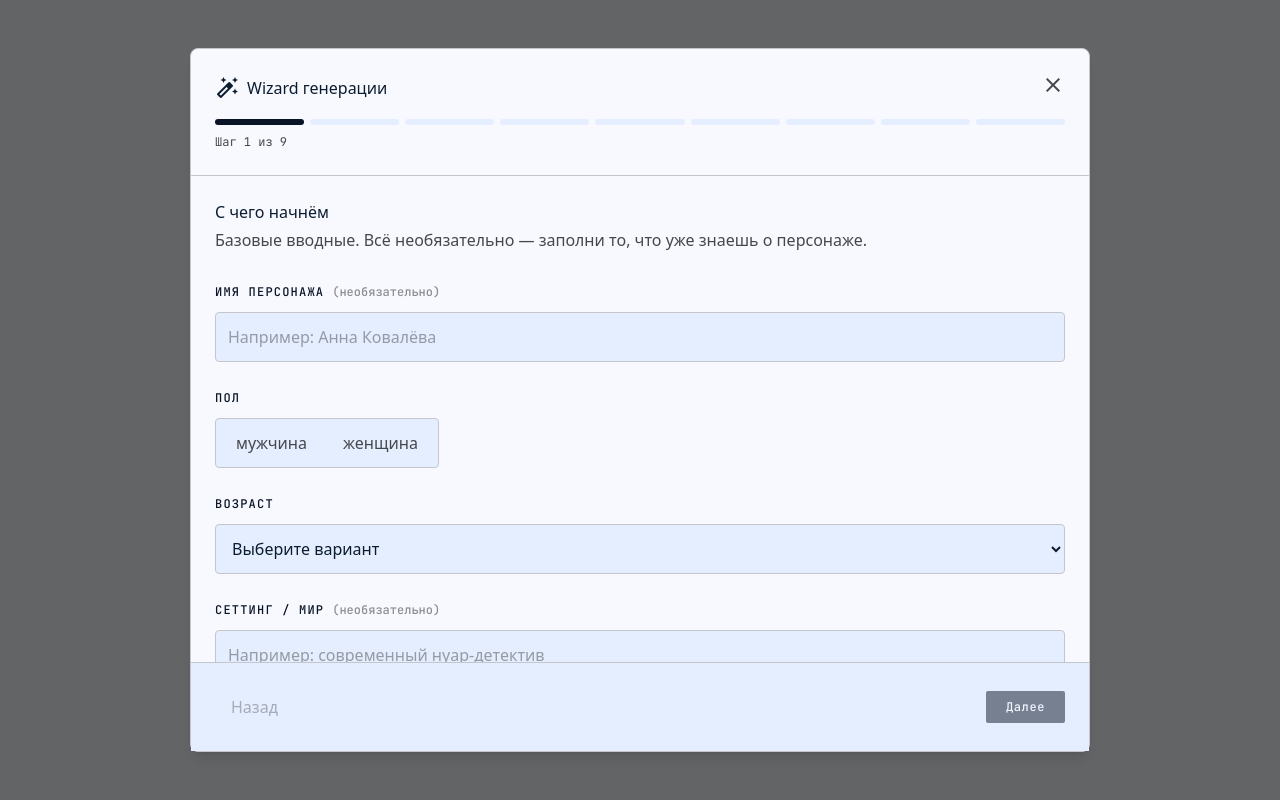
Test: WizardModal › navigates forward and back between steps
Click the button "мужчина".
click(272, 443)  # box [220, 423, 323, 463]
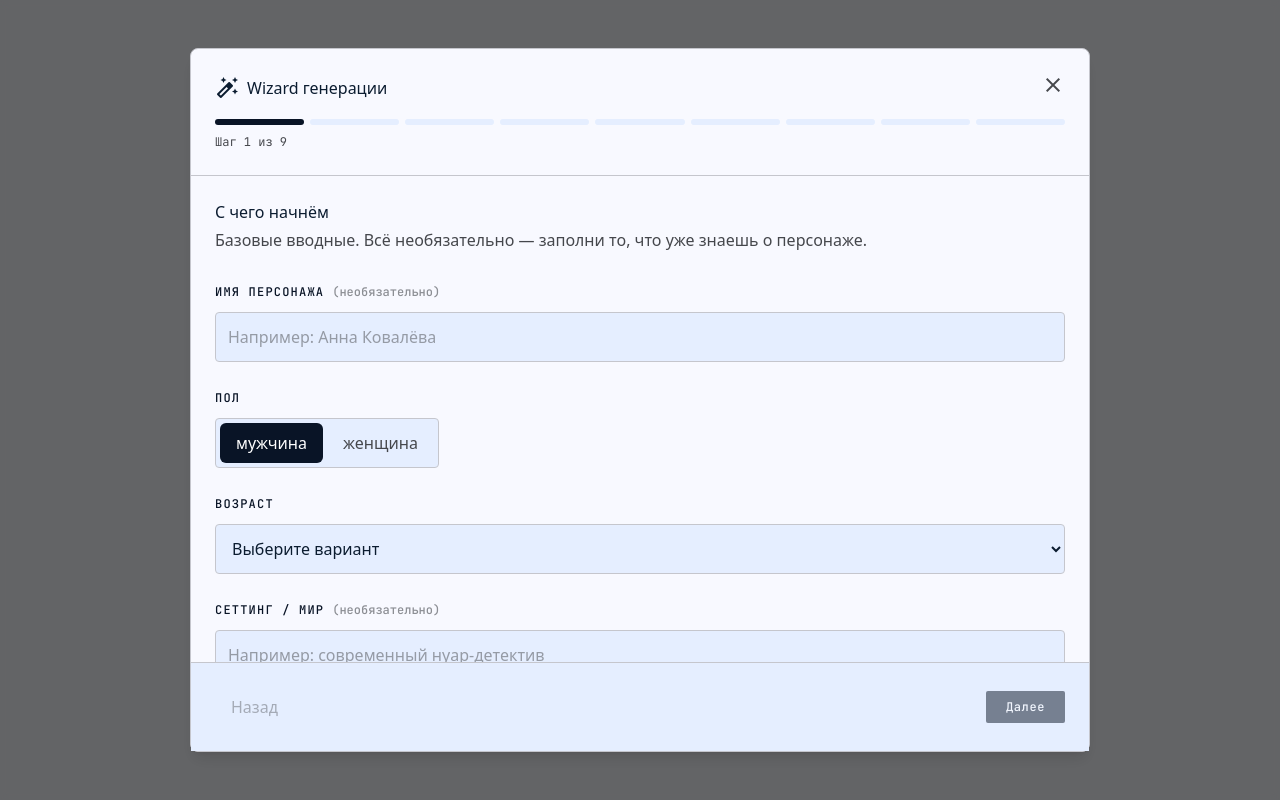
Select "18-25" in the dropdown at [640, 549], box [215, 524, 1065, 574]
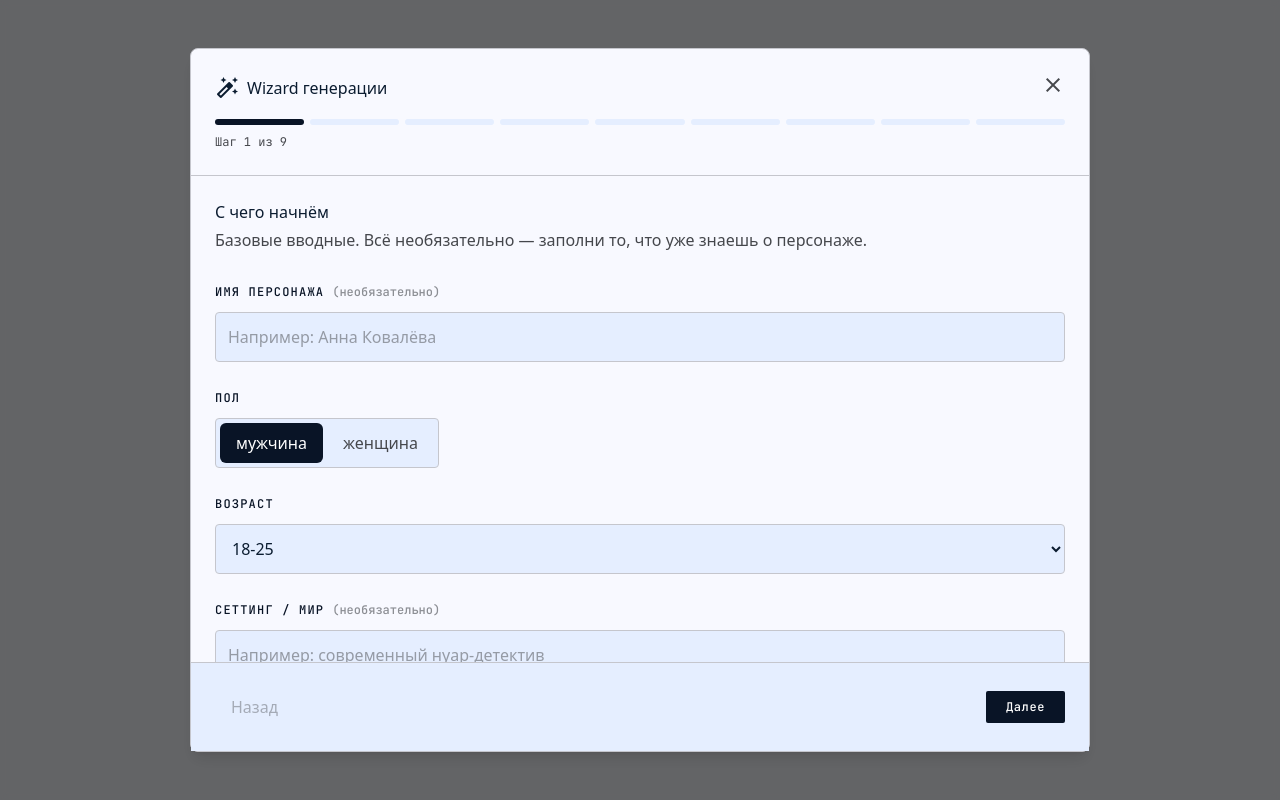
Click the button "Далее".
click(1026, 707)  # box [986, 691, 1065, 723]
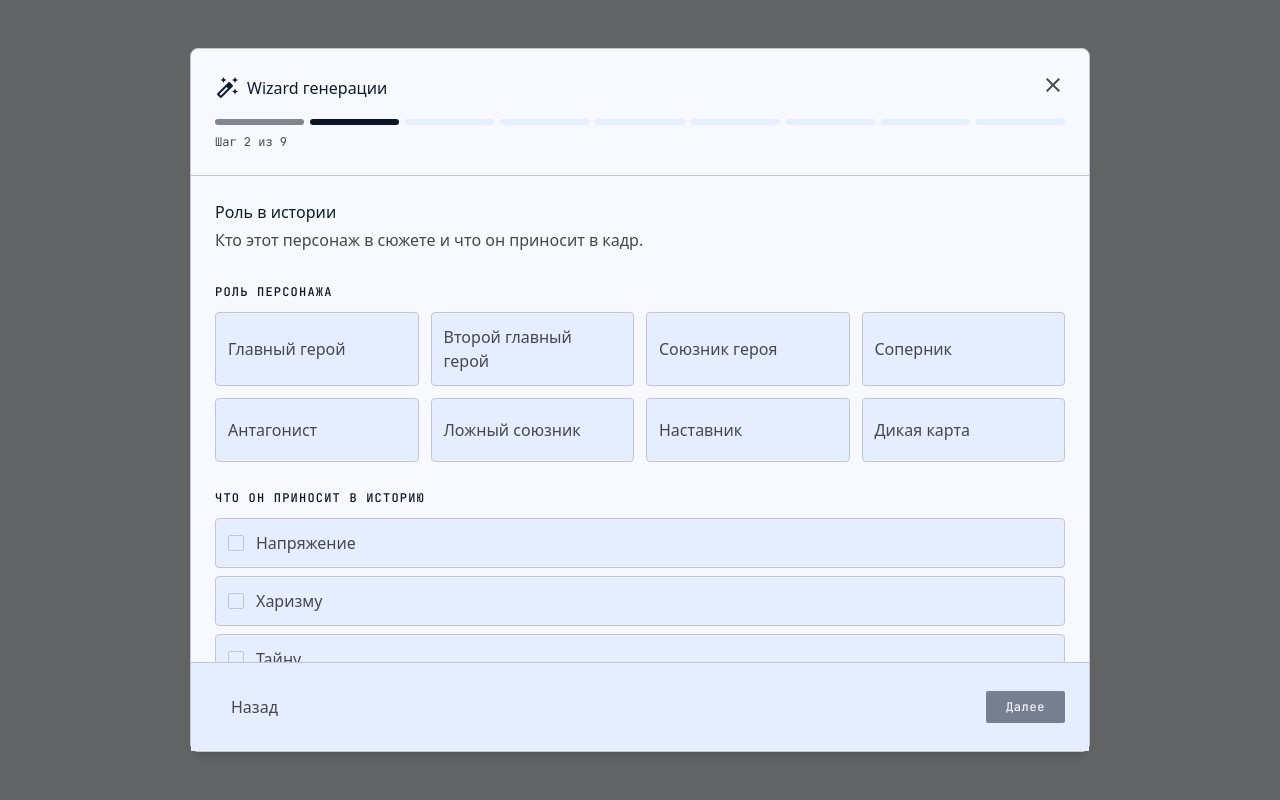
expect the heading "Роль в истории" is shown: met, box [215, 201, 336, 223]
Click the button "Назад".
click(254, 707)  # box [215, 687, 294, 727]
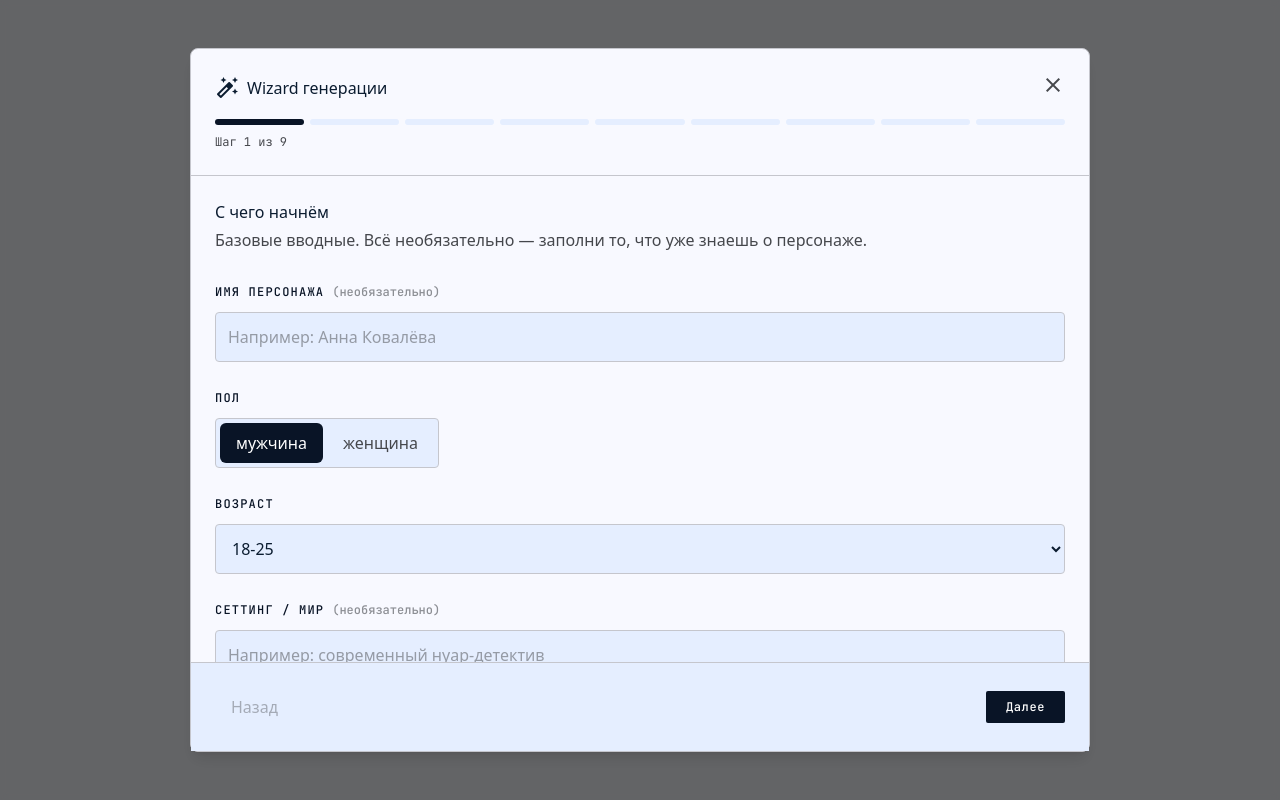
expect the heading "С чего начнём" is shown: met, box [215, 201, 329, 223]
